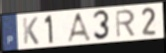1: (44, 15, 55, 45)
2: (141, 7, 157, 37)
3: (91, 9, 113, 42)
A: (65, 12, 93, 44)
K: (21, 16, 40, 46)
R: (114, 8, 136, 39)
